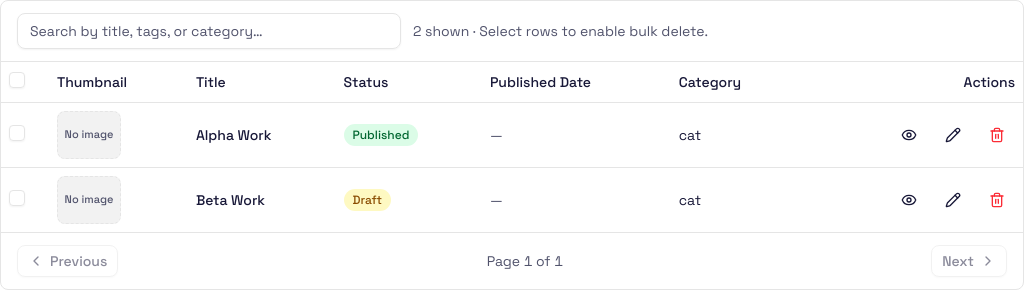
Test case: admin bulk selection tables › clears works bulk selection when the search query changes
Click the checkbox named "Select Alpha Work": [17, 132] box [9,124,25,140]
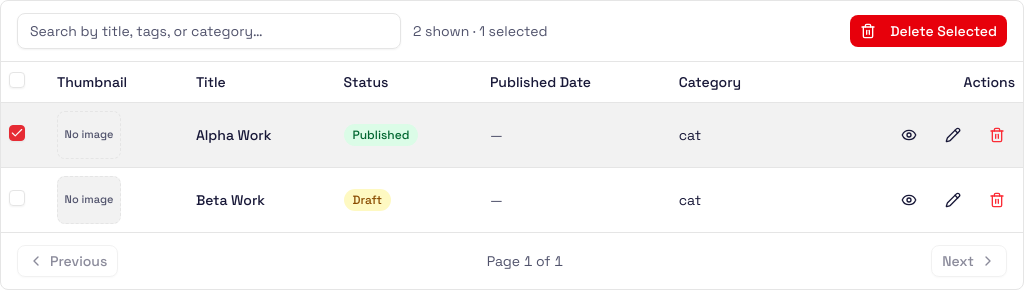
In the field named "Search work titles": [209, 31] box [17,13,401,49], type "alpha"
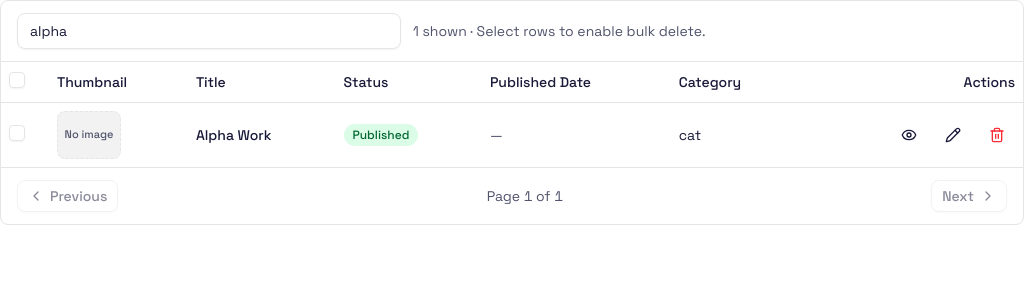
expect the link "Alpha Work" is shown: met, box [196,126,272,144]
expect the checkbox named "Select Alpha Work" is not checked: met, box [9,124,25,140]
expect the button "Delete Selected" is gone: met
